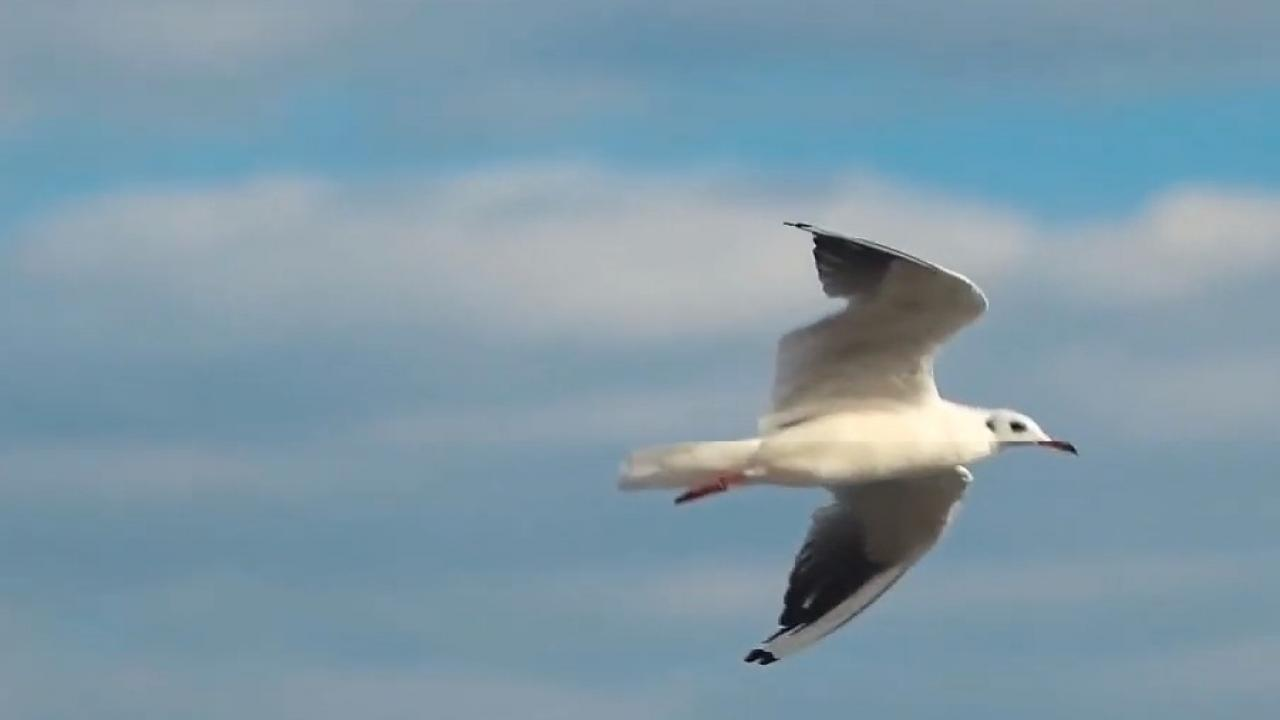Bird: (606, 214, 1092, 677)
